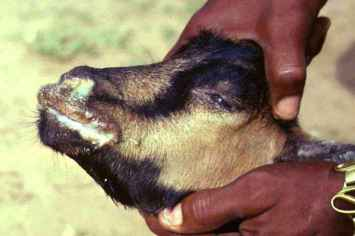ppr: (32, 74, 112, 163)
